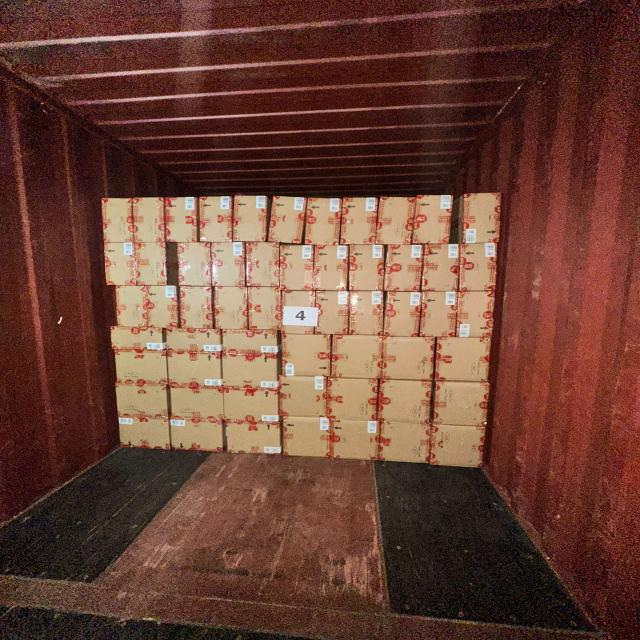Carton: (433, 380, 490, 426), (431, 424, 487, 470), (435, 336, 491, 382), (373, 194, 420, 247), (381, 336, 434, 382), (277, 374, 331, 419), (328, 418, 383, 462), (332, 334, 384, 380), (377, 379, 431, 423), (280, 415, 334, 459), (327, 376, 379, 421), (377, 422, 430, 466), (280, 333, 331, 378), (220, 351, 280, 389), (460, 190, 502, 244), (223, 418, 282, 455), (337, 196, 381, 244), (113, 348, 168, 386), (224, 386, 280, 422), (170, 385, 226, 420), (114, 382, 170, 417), (413, 196, 453, 244), (311, 244, 351, 292), (461, 244, 500, 293), (166, 352, 222, 386), (169, 417, 223, 452), (118, 415, 171, 450), (383, 245, 422, 292), (278, 243, 317, 290), (459, 289, 496, 338), (422, 245, 459, 293), (383, 292, 421, 338), (176, 241, 212, 289), (144, 284, 182, 329), (270, 197, 306, 244), (348, 246, 384, 293), (421, 292, 457, 339), (305, 198, 341, 245), (234, 196, 269, 244), (282, 289, 318, 334), (114, 283, 150, 328), (178, 287, 214, 331), (213, 287, 248, 332), (349, 292, 384, 337), (222, 328, 278, 356), (246, 242, 280, 288), (212, 244, 246, 289), (166, 197, 200, 242), (199, 197, 233, 242), (103, 241, 137, 286), (101, 197, 134, 243), (247, 288, 281, 332), (317, 290, 351, 334), (134, 242, 168, 286), (132, 197, 164, 243), (109, 326, 165, 352), (165, 328, 222, 353)
